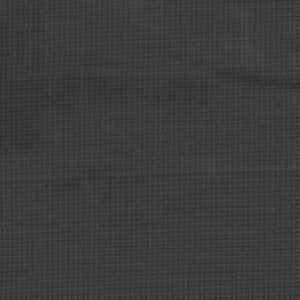Wrinkle: (213, 61, 300, 101)
